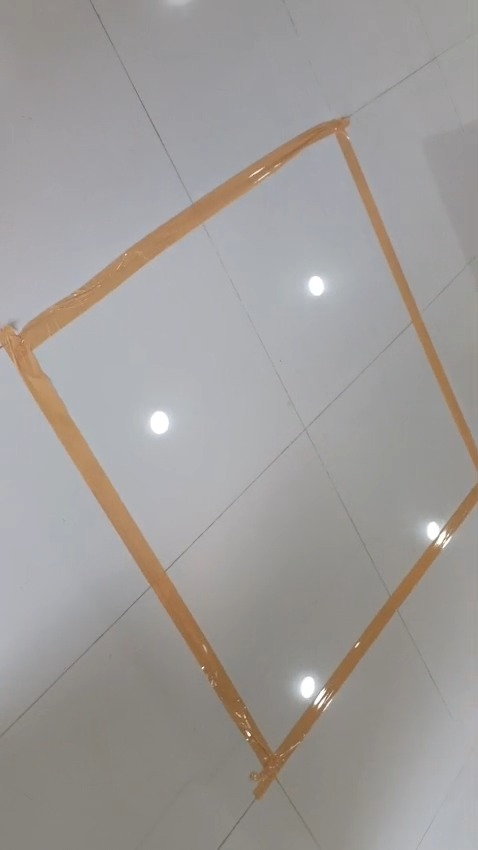floor marking: (0, 118, 477, 798)
